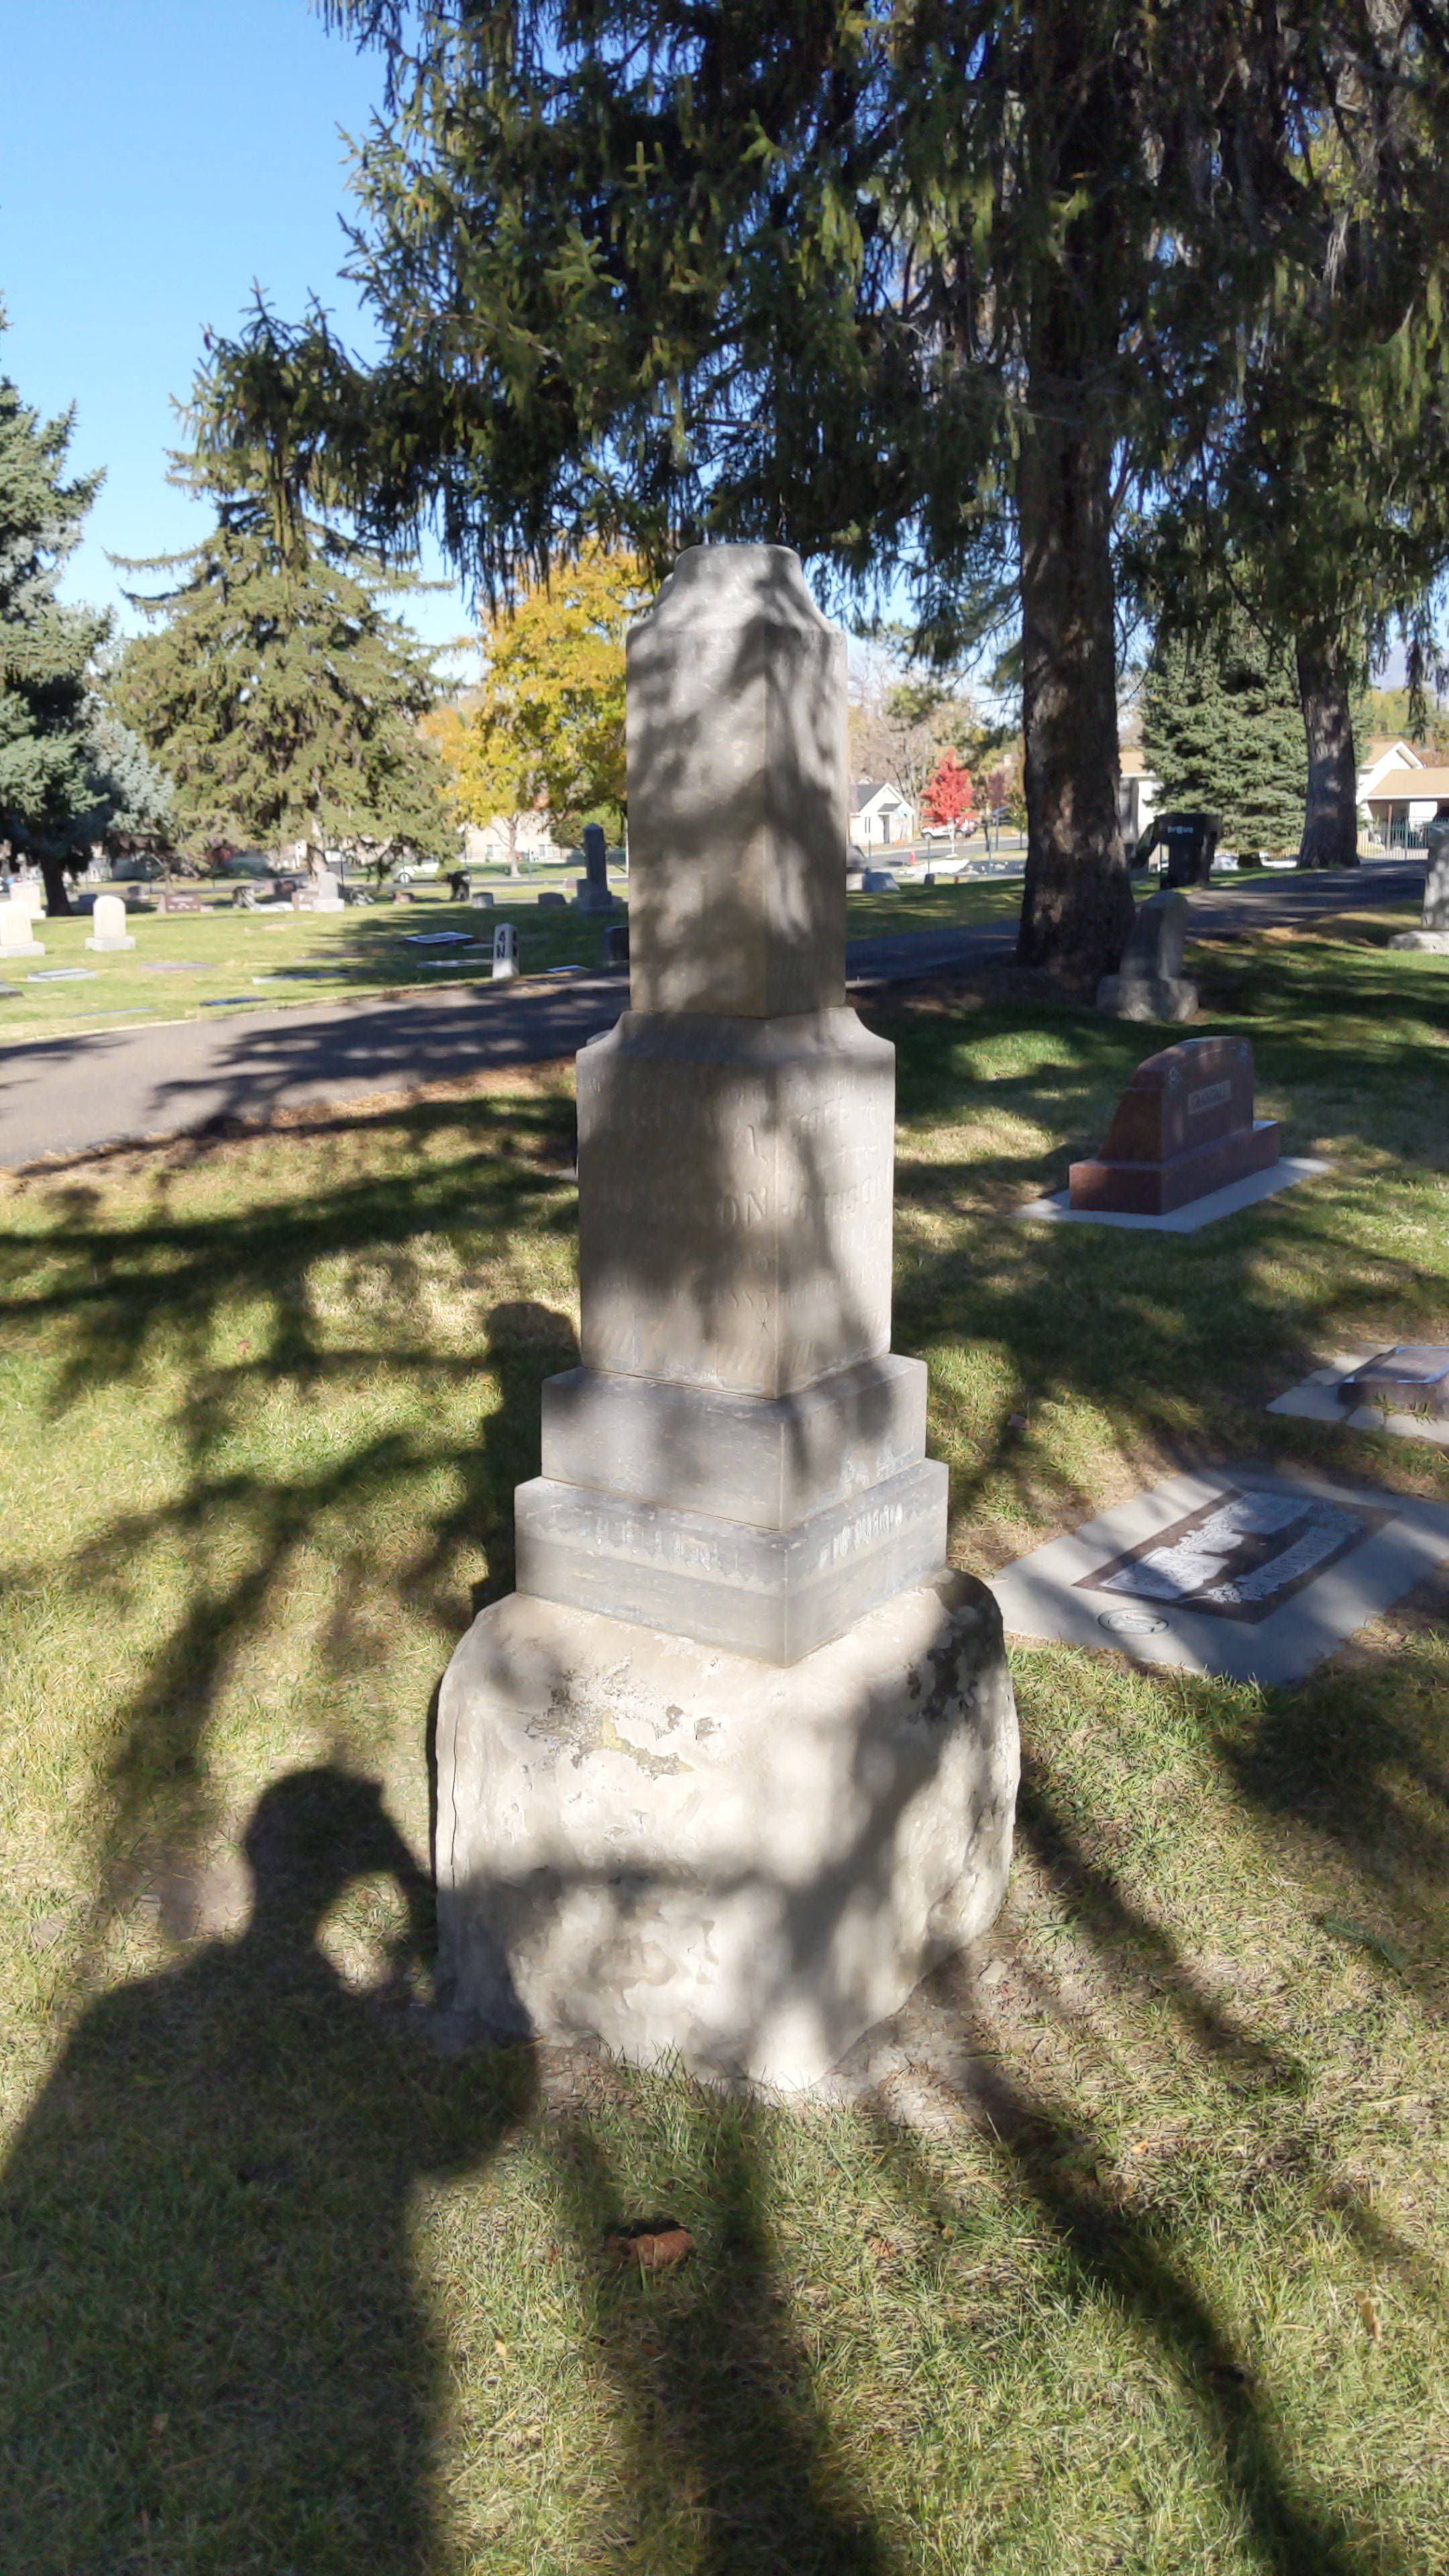obelisk: (525, 543, 941, 1665)
